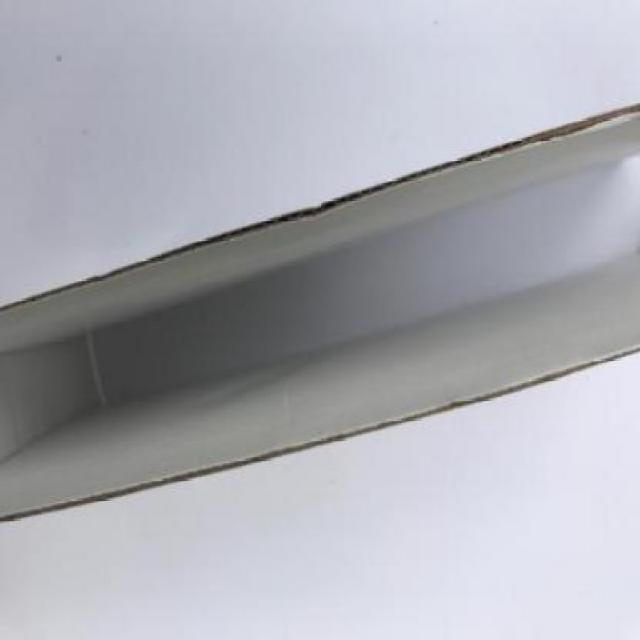box: (3, 93, 640, 530)
